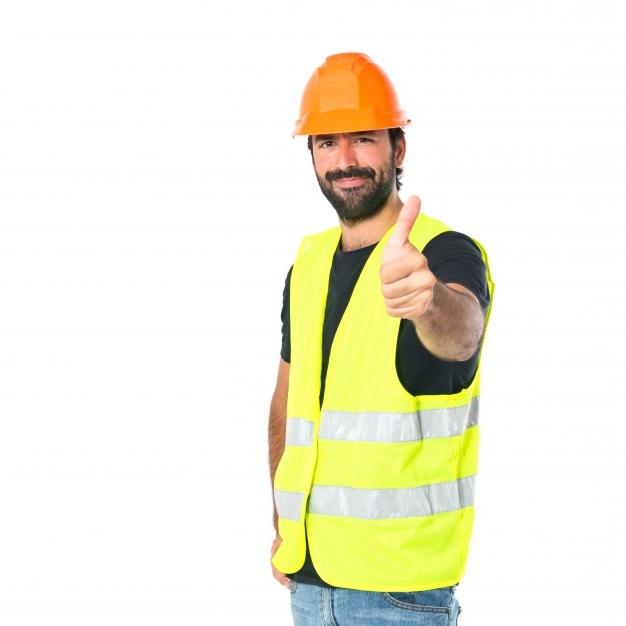thumbsup: (379, 194, 436, 320)
